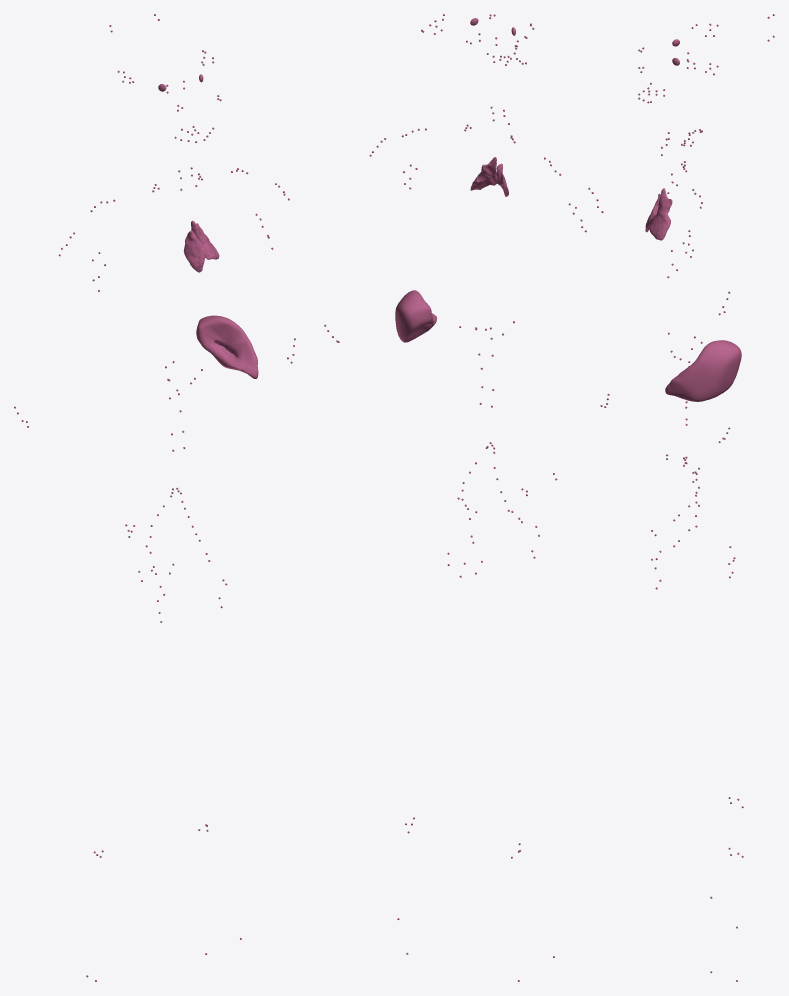
File: z-anatomy-1.2.0-lymphatic.glb
3 renders of one model, left to right at view 1: azimuth 30°, elevation 25°; view 2: azimuth 150°, elevation 25°; view 3: azimuth 270°, elevation 25°, orthographic.
Parts seen in each view (by area): view 1: spleen__Spleen, lymphoid-organs-right-lobe-of-thymus__Right lobe of thymus; view 2: spleen__Spleen; view 3: spleen__Spleen, lymphoid-organs-left-lobe-of-thymus__Left lobe of thymus.
Boxes of the visible parts, box(x1,y1,x2,y2) form: spleen__Spleen: box(196, 315, 258, 378); lymphoid-organs-right-lobe-of-thymus__Right lobe of thymus: box(183, 230, 205, 272); spleen__Spleen: box(395, 290, 436, 342); spleen__Spleen: box(665, 340, 741, 401); lymphoid-organs-left-lobe-of-thymus__Left lobe of thymus: box(649, 188, 672, 240).
Bounding box in the file's own units: 0.4019 × 1.28 × 0.1697.
